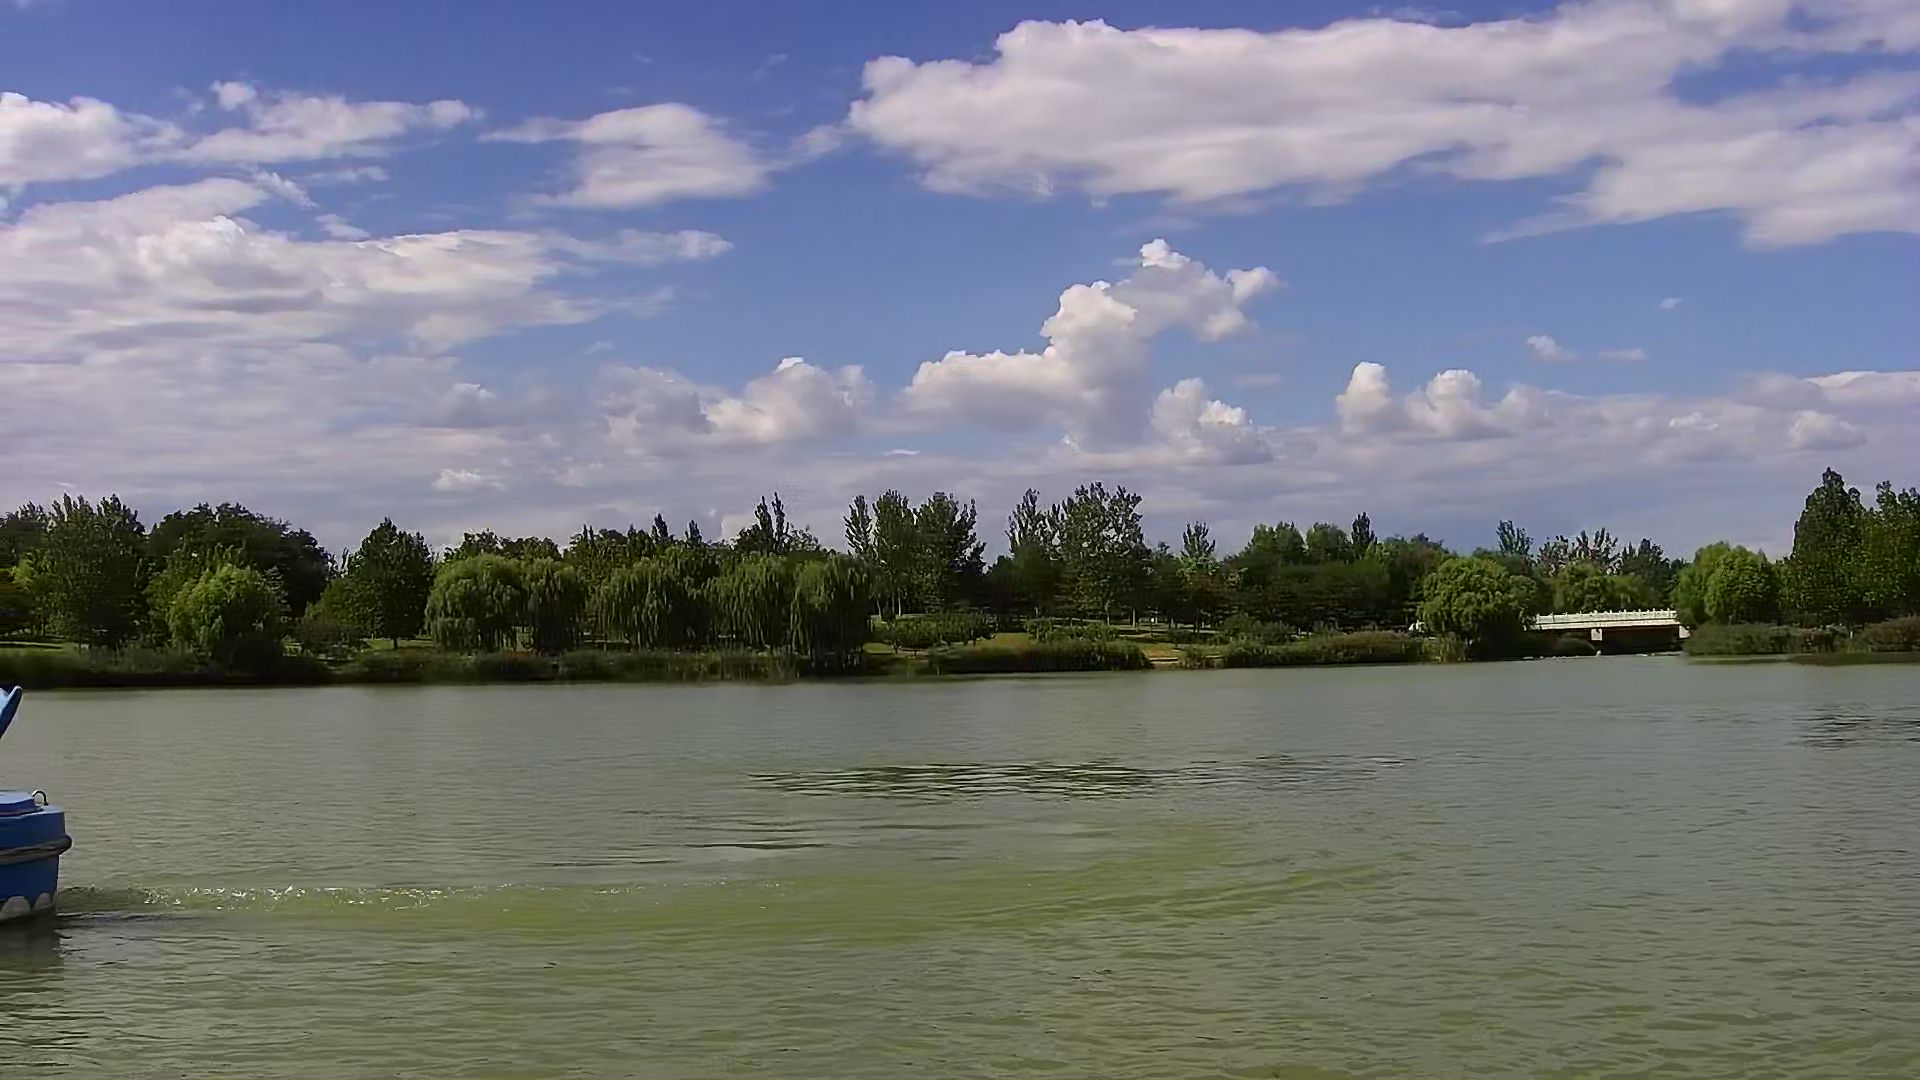boat: (1, 684, 73, 927)
bridge: (1538, 604, 1683, 649)
